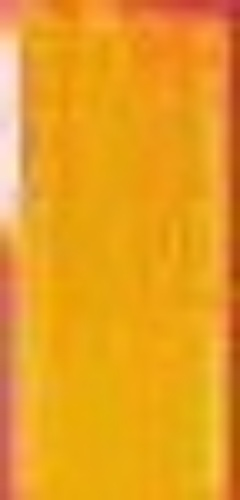Diode: (1, 24, 32, 229)
